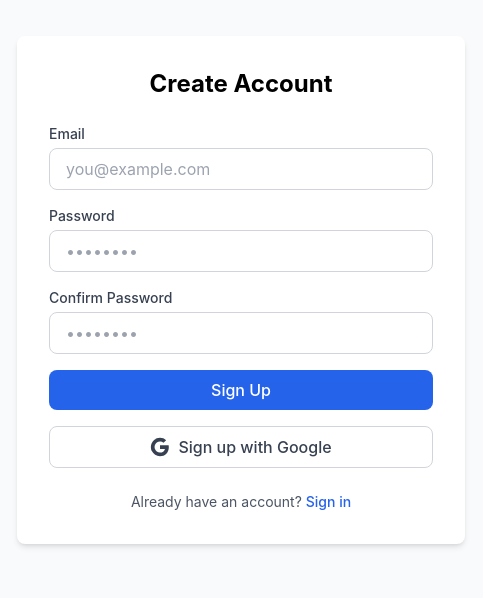
Test case: Signup › shows error when passwords do not match
Type "test@test.com" into the field labelled "Email" at (241, 169), box [49,148,433,190]
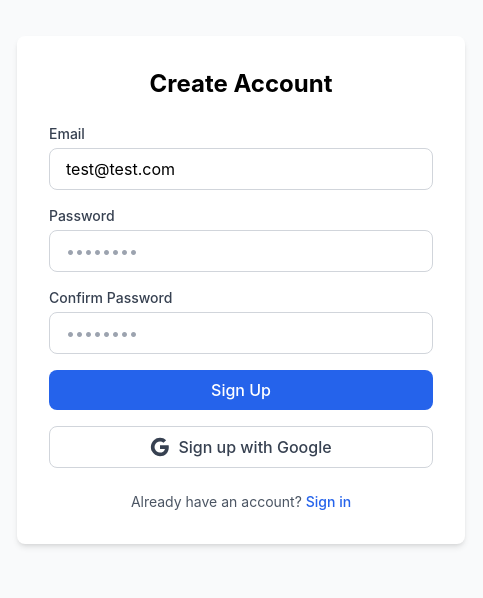
Type "password123" into the password field labelled "Password" at (241, 251), box [49,230,433,272]
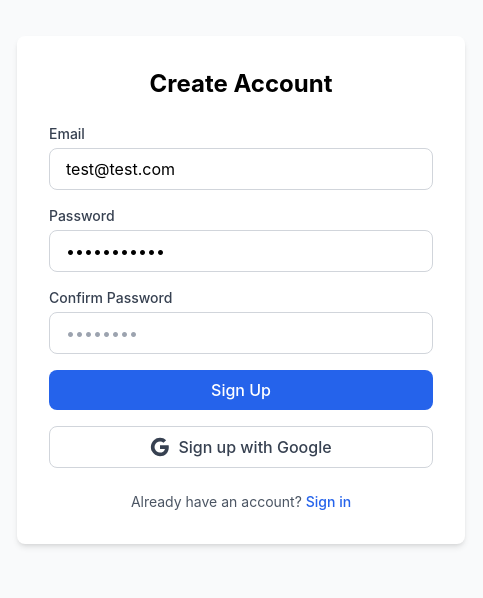
Type "differentpassword" into the password field labelled "Confirm Password" at (241, 333), box [49,312,433,354]
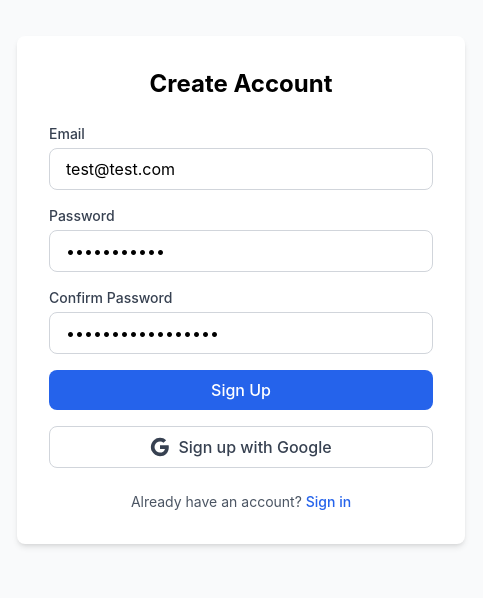
Click the button "Sign Up" at (241, 390), box [49,370,433,410]
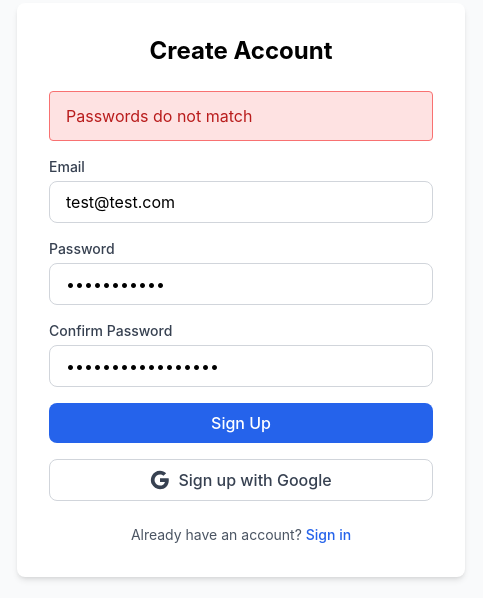
Expected: the text "Passwords do not match" is shown, [49,91,433,141]
